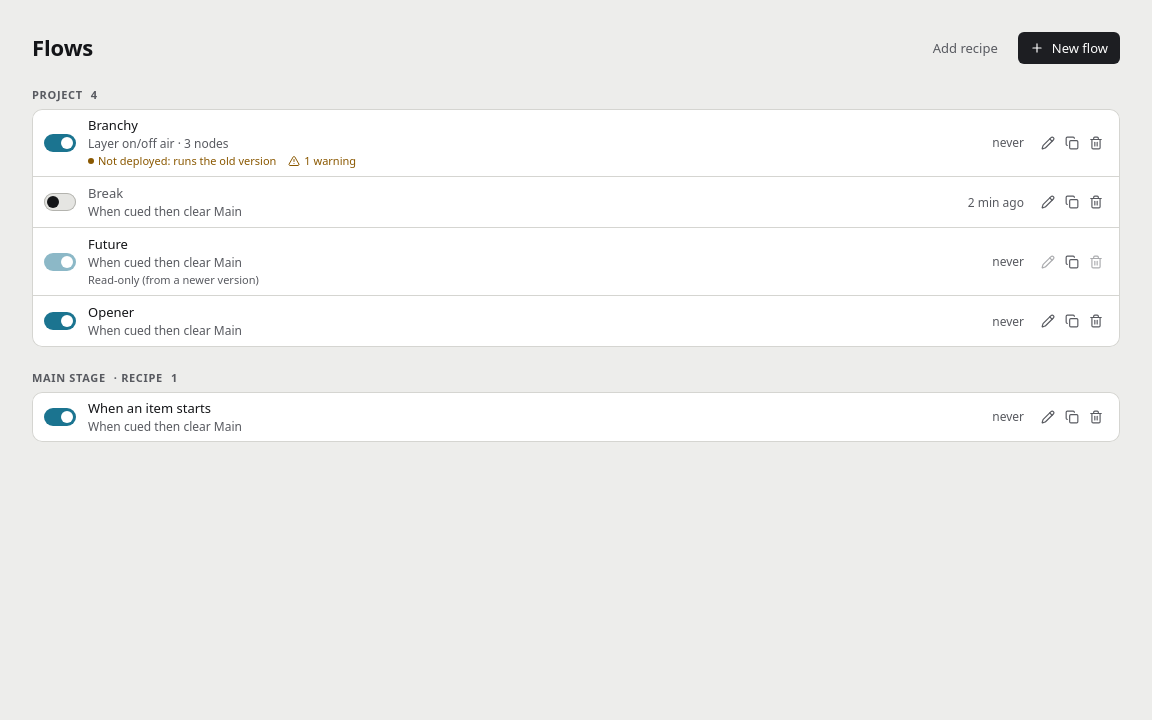
/flows page › duplicate adds the copy; delete asks first and drops the hotkey
Click the button named "Duplicate Opener" at (1072, 322), box [1060, 310, 1084, 334]
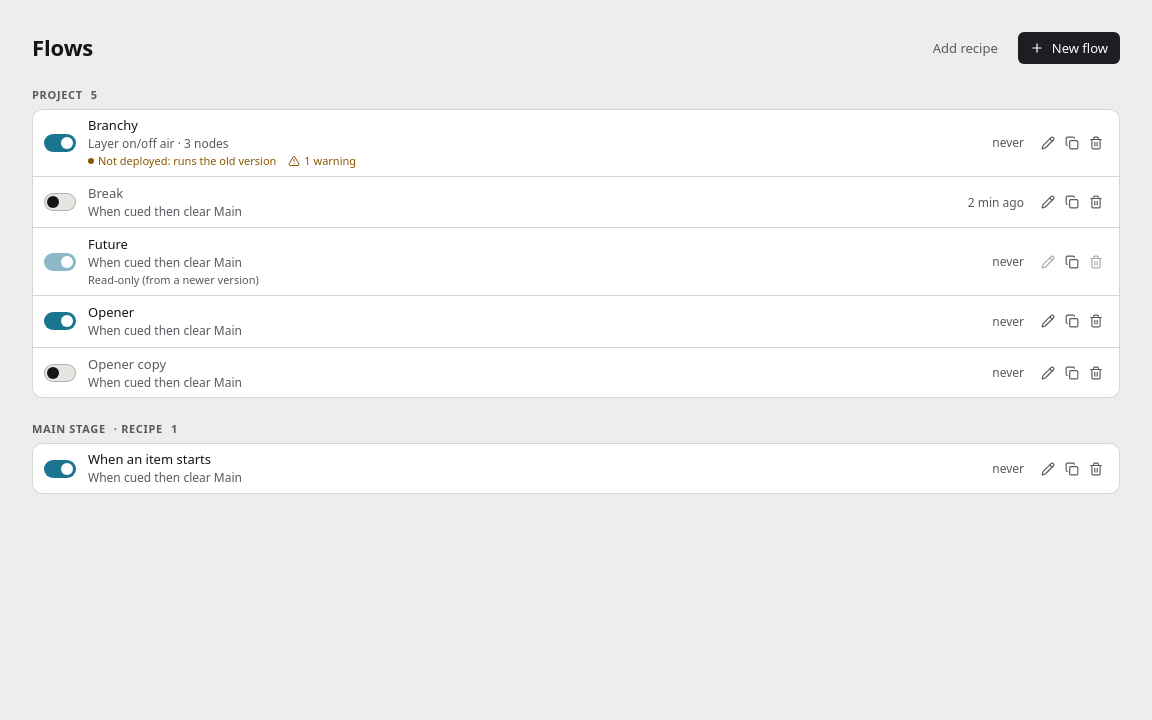
Expected: the link "Opener copy" is shown, [88, 356, 166, 373]
Click the button named "Delete Break…" at (1096, 202), box [1084, 190, 1108, 214]
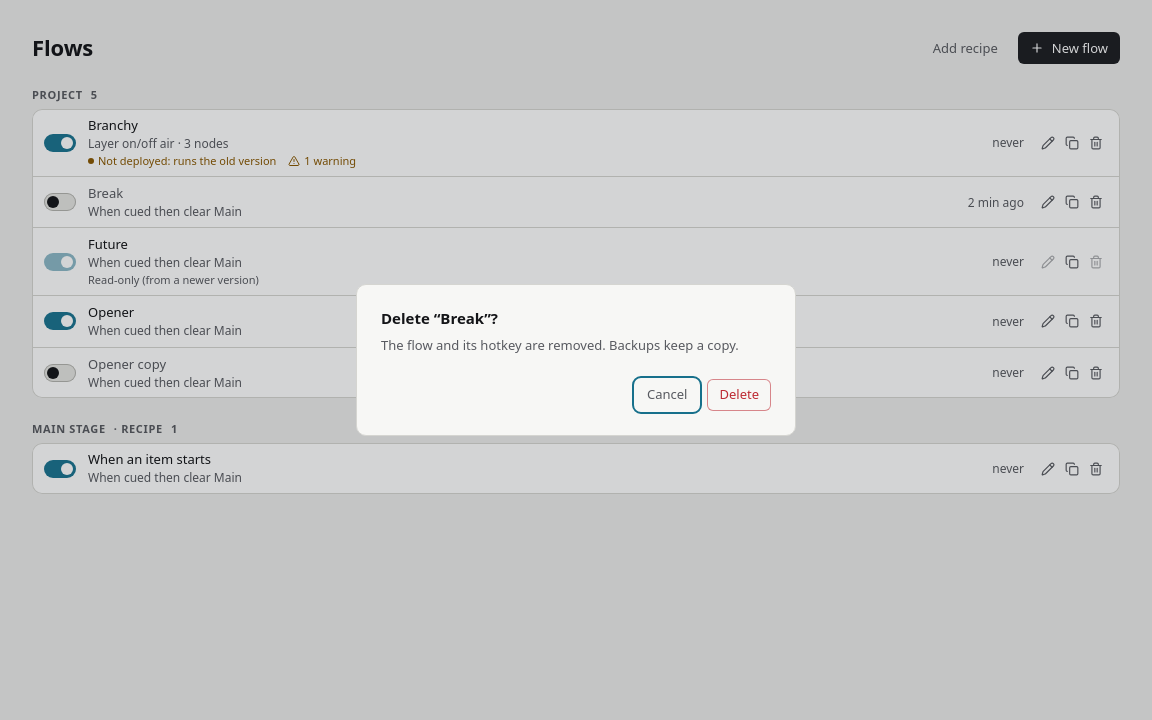
Click the button "Delete" at (739, 395), box [708, 379, 771, 411]
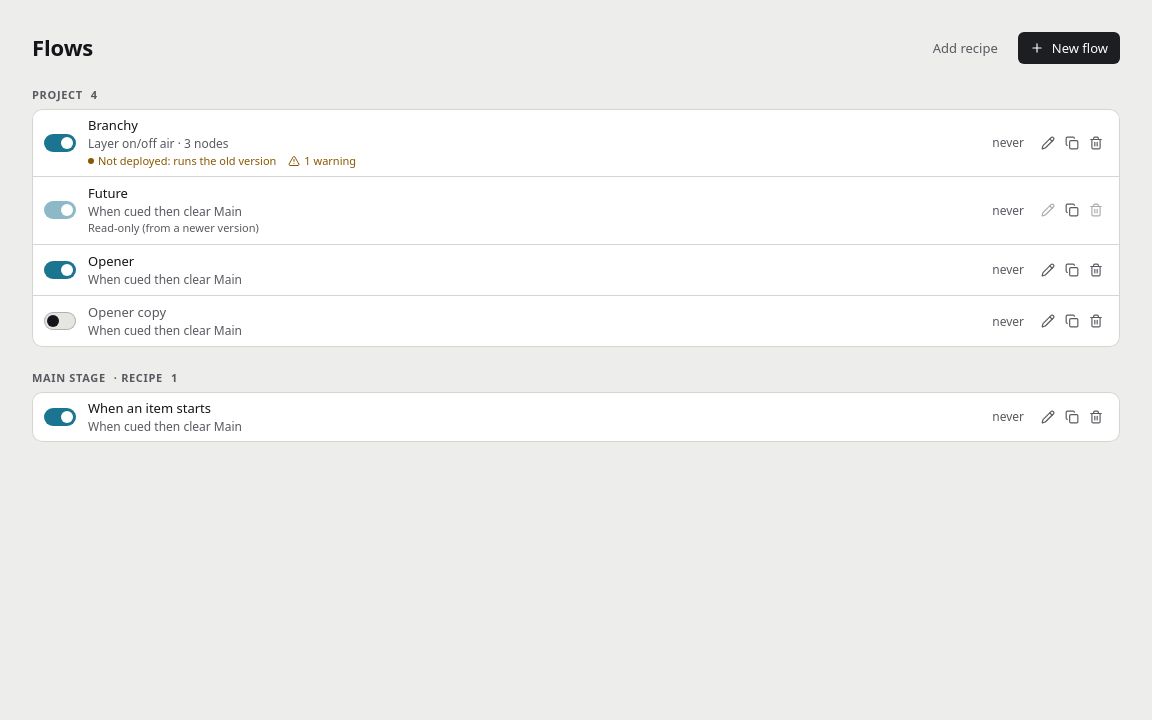
Expected: the link "Break" is gone
